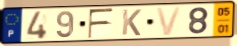4: (25, 10, 49, 41)
8: (187, 6, 209, 35)
9: (55, 10, 75, 39)
F: (87, 7, 115, 40)
K: (121, 8, 143, 37)
V: (155, 5, 184, 37)
